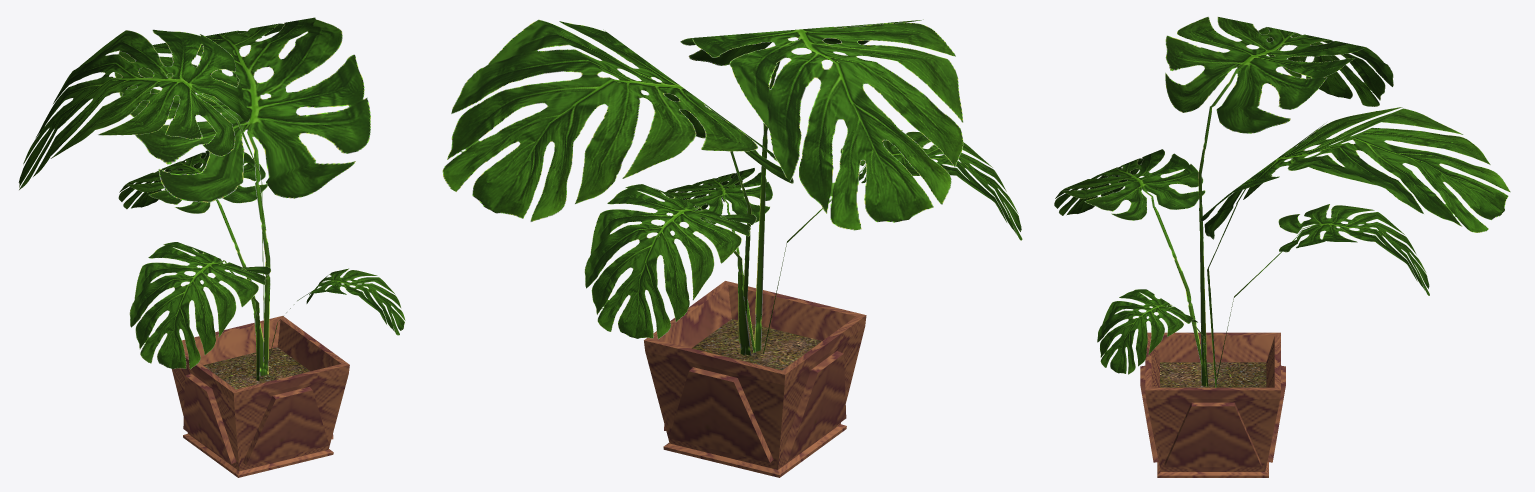
File: Plant_01_Art.glb
3 views of the same model, side by side, from view 1: azimuth 30°, elevation 25°; view 2: azimuth 150°, elevation 25°; view 3: azimuth 270°, elevation 25° (orthographic). The views are drawn at different scales.
Parts seen in each view (by area): view 1: Plant_01_Art; view 2: Plant_01_Art; view 3: Plant_01_Art.
Boxes of the visible parts, x1,y1,x2,y2 form: Plant_01_Art: [18, 17, 405, 477]; Plant_01_Art: [442, 19, 1022, 477]; Plant_01_Art: [1054, 16, 1510, 477].
Bounding box in the file's own units: 3.12 × 3.08 × 3.45.
3 materials, 3 textured.
